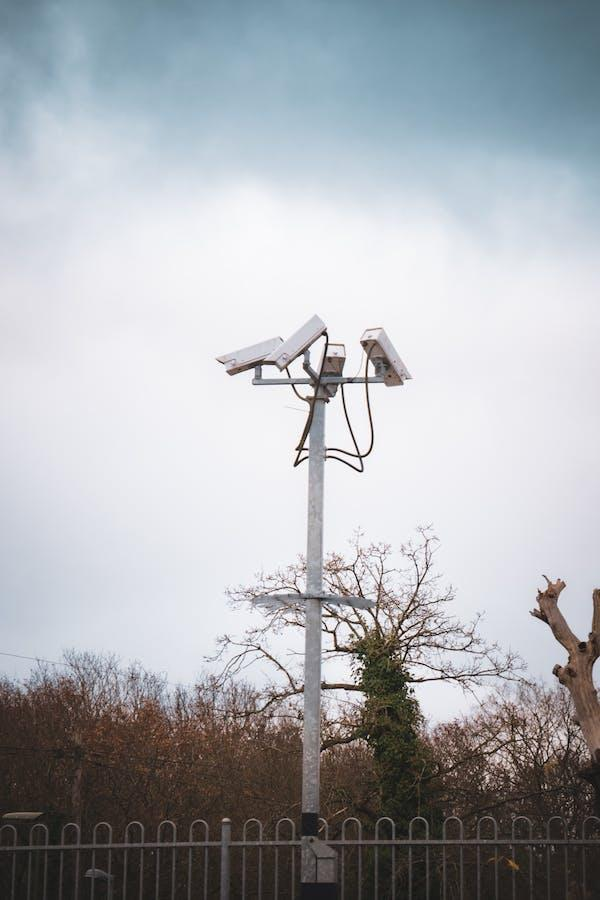camera: (255, 248, 335, 408), (183, 300, 283, 400), (355, 303, 433, 415)
